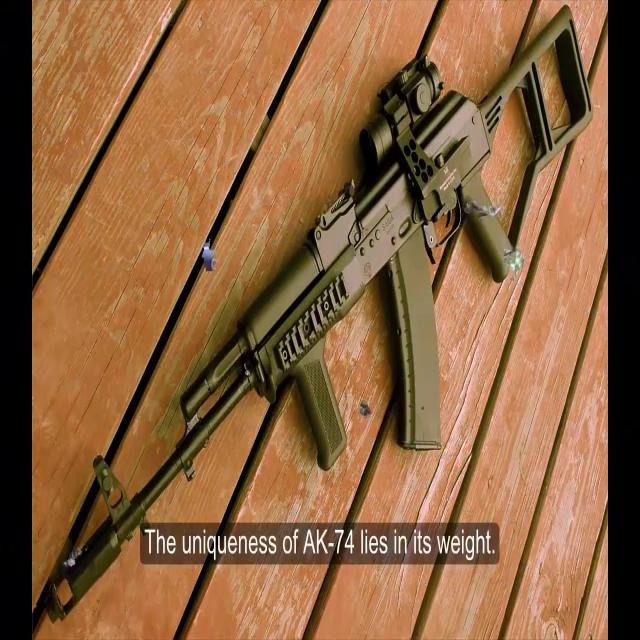Weapon: (43, 0, 617, 633)
